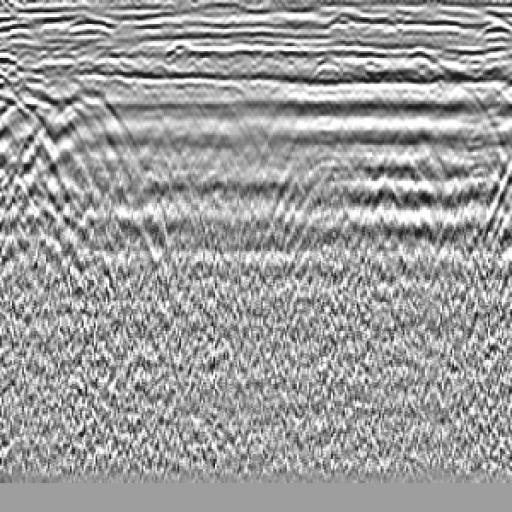non-metallic: (3, 55, 169, 279), (462, 66, 512, 305)
